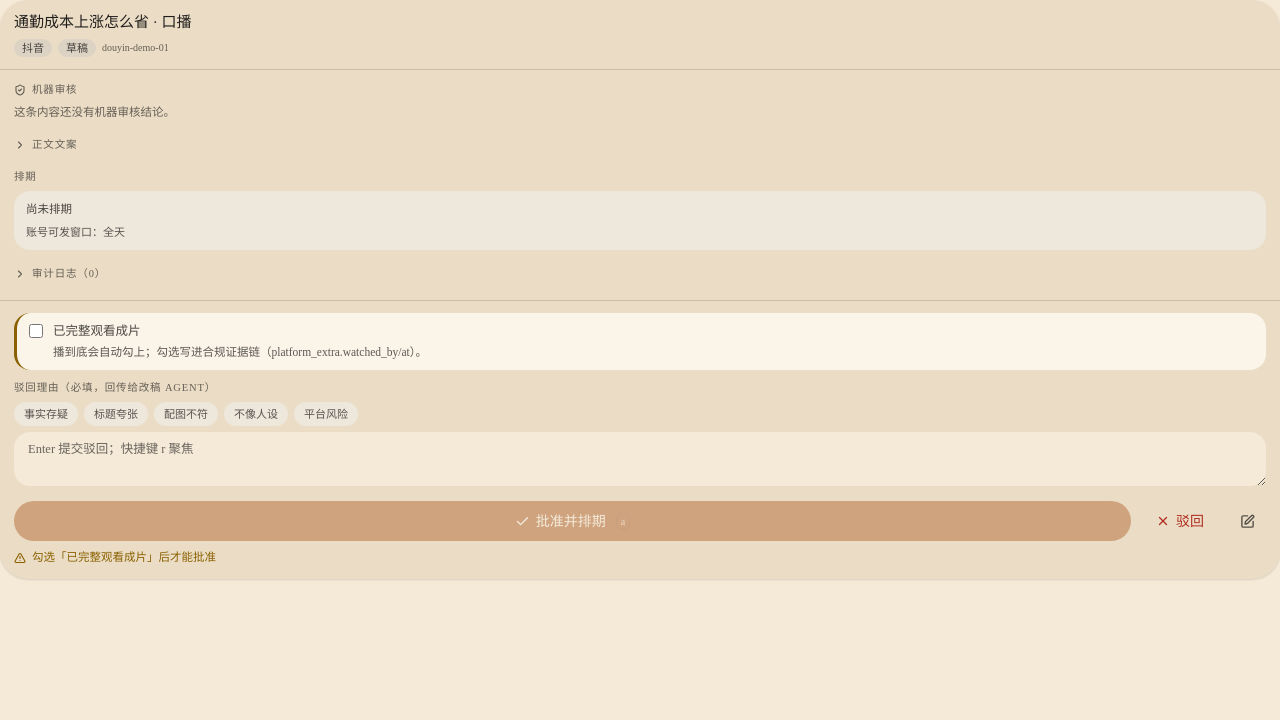
Scenario: 决策栏 · 视频闸门 › needs_watch 时批准钮先是灰的，勾上「已完整观看」才解锁，watched 会带给后端
The width and height of the screenshot is (1280, 720).
Expected: the button with test id "approve-button" is disabled, [14,501,1131,541]
Expected: the element with test id "watch-blocked-hint" is shown, [14,551,216,564]
Step 1. Click the checkbox labelled "已完整观看成片 播到底会自动勾上；勾选写进合规证据链（platform_extra.watched_by/at）。" → click(36, 331), box [29,324,43,338]
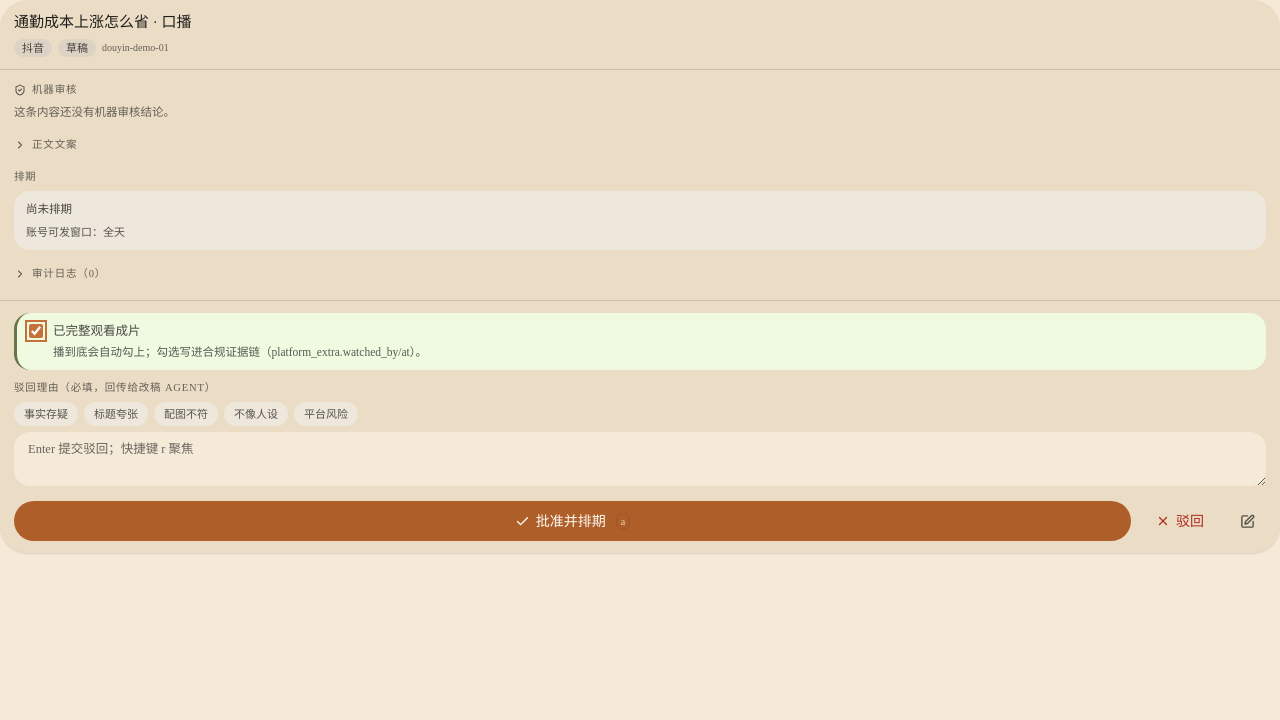
Result: the button with test id "approve-button" is enabled
Step 2. Click the button with test id "approve-button" → click(572, 521), box [14,501,1131,541]
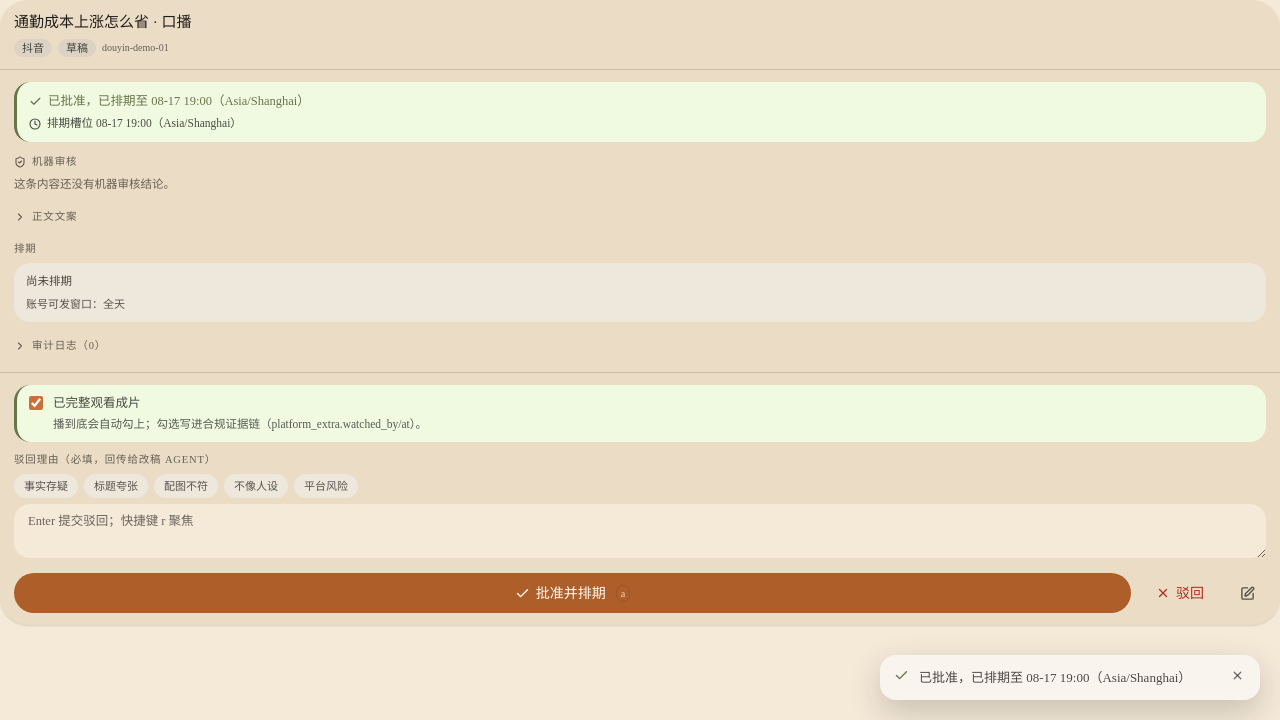
Result: the text "排期槽位 08-17 19:00（Asia/Shanghai）" is shown at [29,117,242,130]
